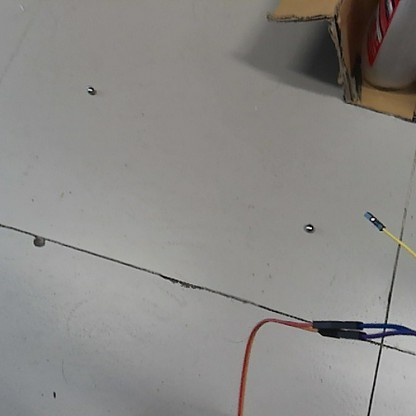ironball: (84, 83, 96, 97), (302, 220, 313, 234)
